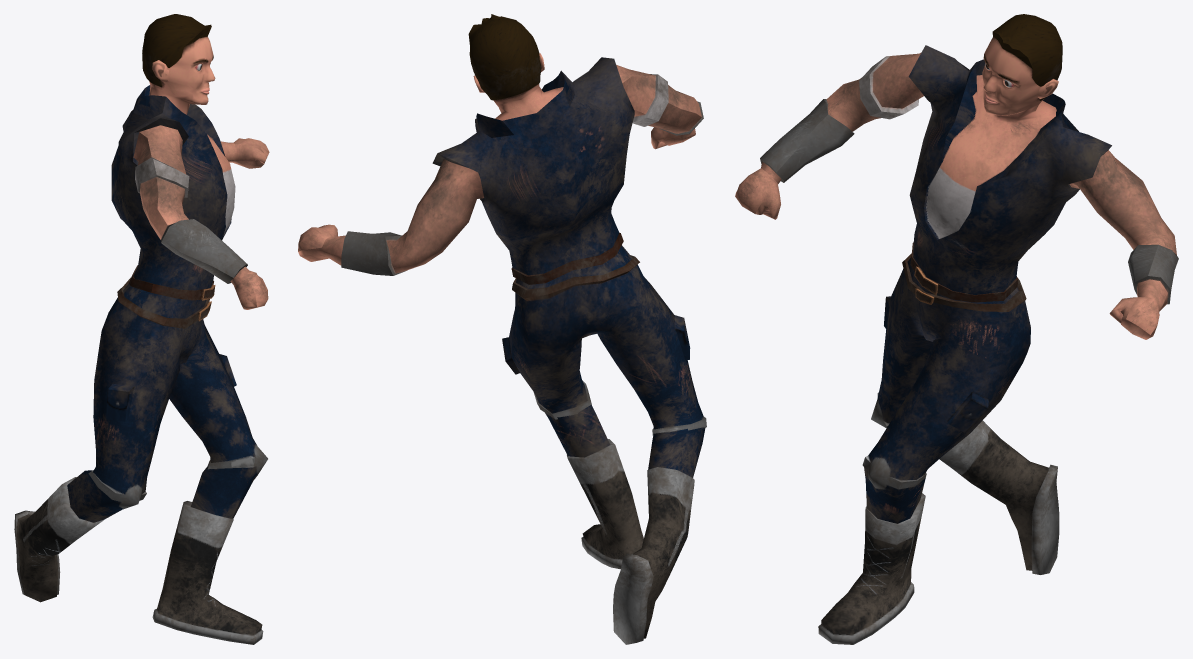
The model's file is Anim_ataque_f1_jugador.0016.obj.
The picture shows the model from 3 angles, left to right: view 1: azimuth 30°, elevation 25°; view 2: azimuth 150°, elevation 25°; view 3: azimuth 270°, elevation 25°; orthographic projection. The views are drawn at different scales.
Parts seen in each view (by area): view 1: polySurface1; view 2: polySurface1; view 3: polySurface1.
Part boxes in pixels (<box>): polySurface1: <box>14,14,269,644</box>; polySurface1: <box>298,14,706,644</box>; polySurface1: <box>735,14,1178,644</box>.
Bounding box in the file's own units: 5.11 × 9.07 × 5.83.
